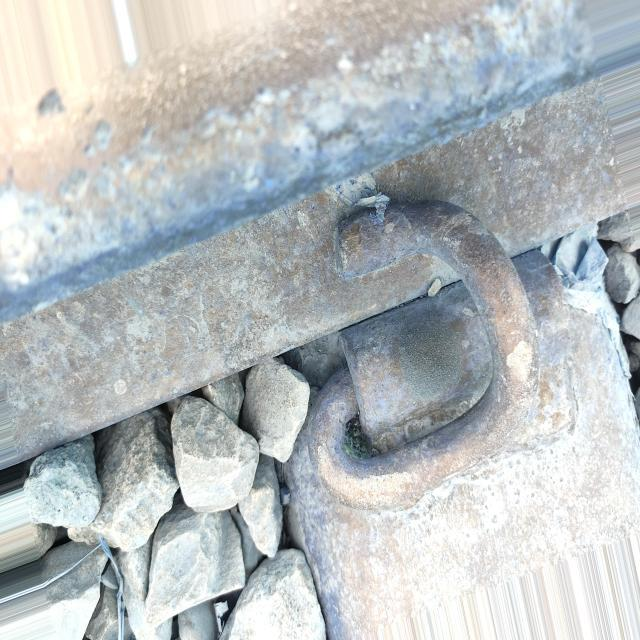Good Fasteners: (296, 175, 598, 568)
